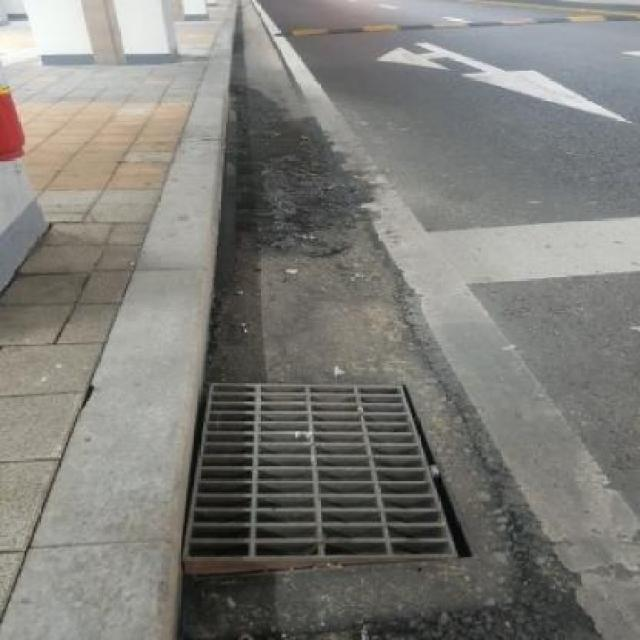Drain Hole: (197, 369, 486, 575)
